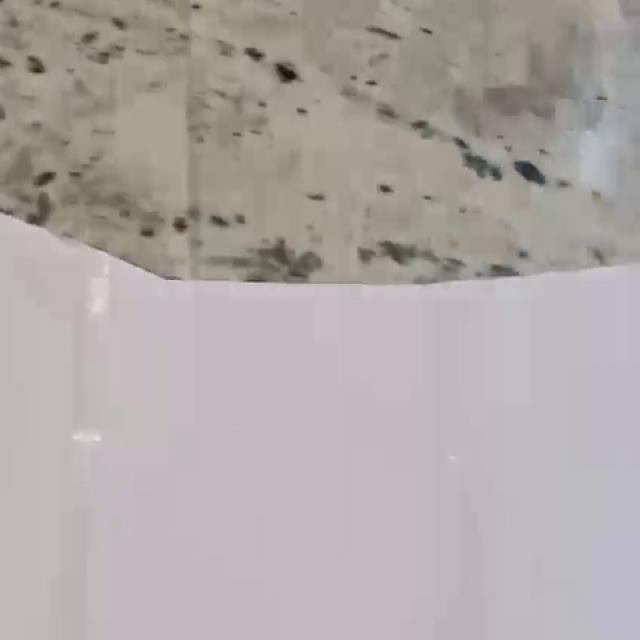road: (0, 213, 640, 640)
